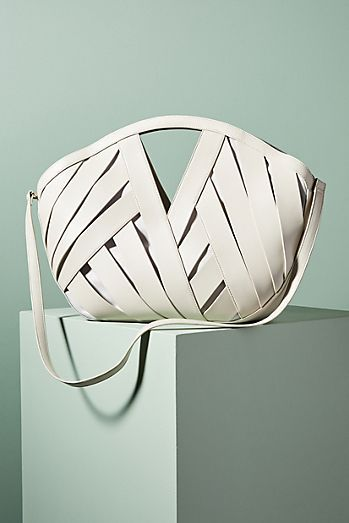cuero: (24, 115, 327, 387)
